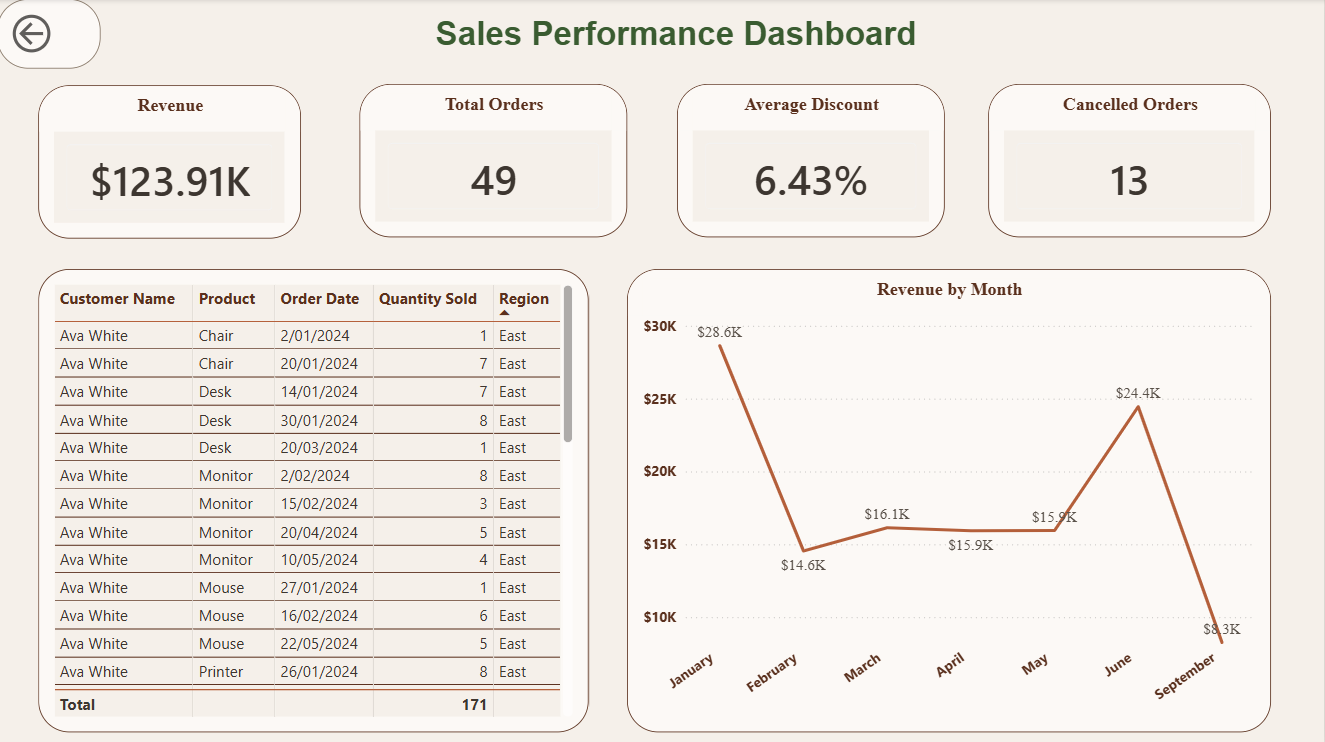

The dashboard page shown, as its layout file describes it:
{"tool":"powerbi","page":{"name":"Customer Detail Page","canvas":[1280,720],"ordinal":1},"visuals":[{"type":"actionButton","box":[0,0,100.1,67.6],"z":0},{"type":"tableEx","fields":{"Values":["Sales.Customer Name","Sales.Order Status","Sales.Product","Sales.Order Date","Sales.Quantity Sold"]},"box":[39.7,260.7,476.7,448.1],"z":1000},{"type":"cardVisual","title":"Revenue","fields":{"Data":["Sales.Total Revenue"]},"box":[39.8,83.2,253.4,148.4],"z":2000},{"type":"cardVisual","title":"Total Orders","fields":{"Data":["Sales.Total Orders"]},"box":[349.9,82,258.2,148.4],"z":3000},{"type":"lineChart","title":"Revenue by Month","fields":{"Y":["Sales.Total Revenue"],"Category":["Date.Date.Variation.Date Hierarchy.Month"]},"box":[542.4,260.7,686.4,448.1],"z":4000},{"type":"cardVisual","title":"Cancelled Orders","fields":{"Data":["Sales.Cancelled Orders"]},"box":[956.7,82,272.7,148.4],"z":5000},{"type":"textbox","box":[321.5,11.2,669.1,57.1],"z":6000},{"type":"cardVisual","title":"Average Discount","fields":{"Data":["Sales.Average Discount"]},"box":[656.3,82,258.2,148.4],"z":6001}]}

Visuals, with their boxes in screenshot pixels (x1, y1, x2, y2), scaled from the page's 1280x720 canvas onto the 1325x742 screenshot:
actionButton: 0:0:104:70
tableEx - Sales.Customer Name x Sales.Order Status: 41:269:535:730
"Revenue" cardVisual: 41:86:304:239
"Total Orders" cardVisual: 362:85:629:237
"Revenue by Month" lineChart: 561:269:1272:730
"Cancelled Orders" cardVisual: 990:85:1273:237
textbox: 333:12:1025:70
"Average Discount" cardVisual: 679:85:947:237
